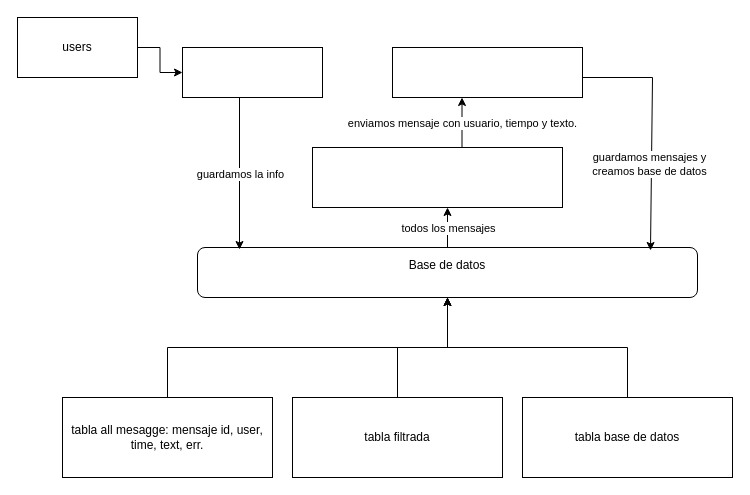
This 750x495 diagram has some shape labels left out. Each missing label, with the box of its shape:
chat: - envía mensaje a mirtan - recibe la respuesta de si o no: (392, 46, 582, 98)
chat: - recibe mensaje - responde recibido: (182, 46, 322, 98)
filtro: Leer el mensaje y buscar palabra clave: (312, 146, 562, 208)
